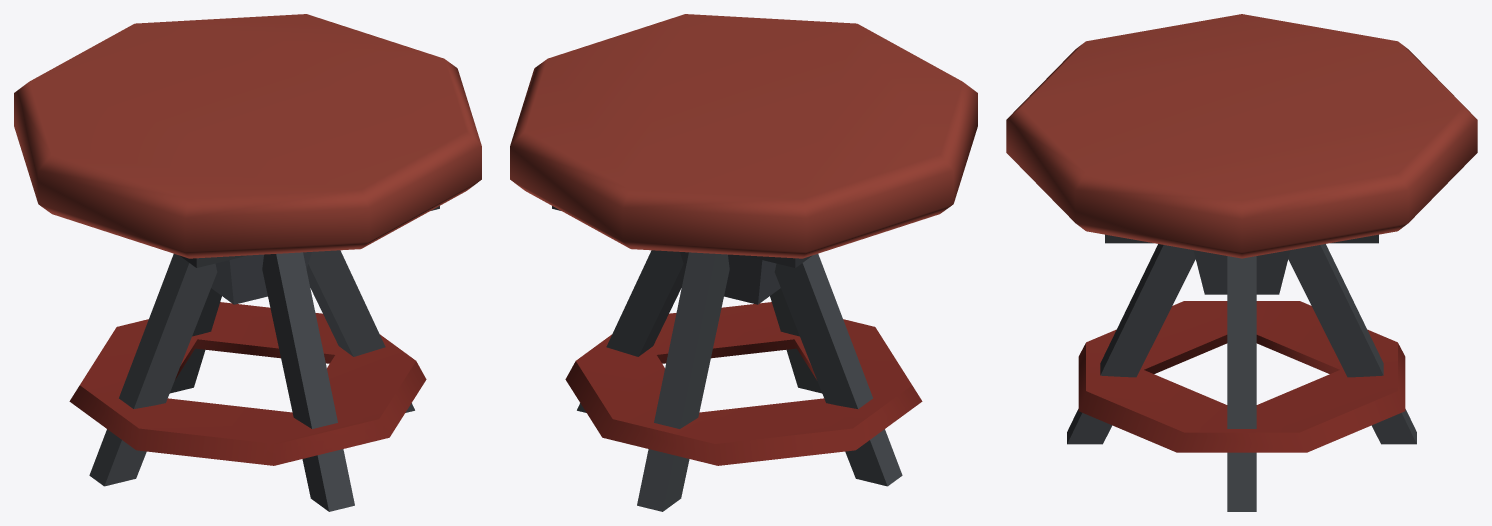
Rendered from SM_GameArea_Chair_02.fbx.
The picture shows the model from 3 angles, left to right: view 1: azimuth 30°, elevation 25°; view 2: azimuth 150°, elevation 25°; view 3: azimuth 270°, elevation 25°; orthographic projection. The views are drawn at different scales.
Visible parts, largest first — view 1: SM_GameArea_Chair_02; view 2: SM_GameArea_Chair_02; view 3: SM_GameArea_Chair_02.
Boxes of the visible parts, x1,y1,x2,y2 form: SM_GameArea_Chair_02: [14, 14, 481, 511]; SM_GameArea_Chair_02: [510, 14, 977, 511]; SM_GameArea_Chair_02: [1006, 14, 1477, 511].
Size of what is drawn, in the model's own units: 269 by 207 by 269.
